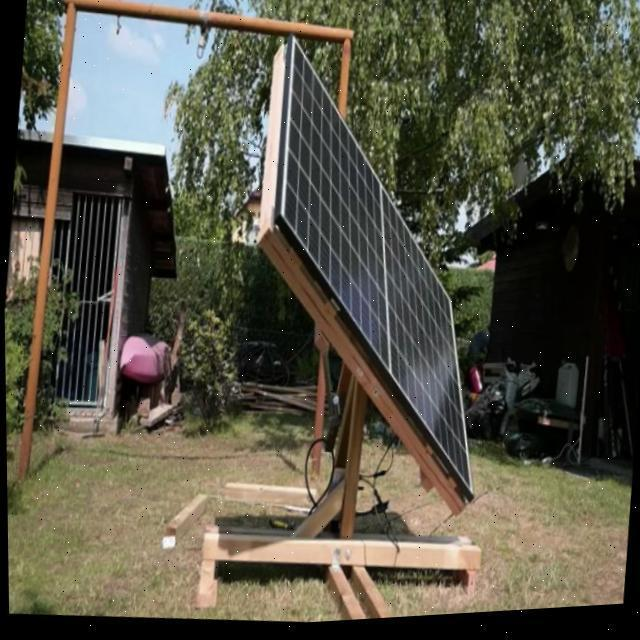Normal Solar Panel: (248, 30, 512, 514)
